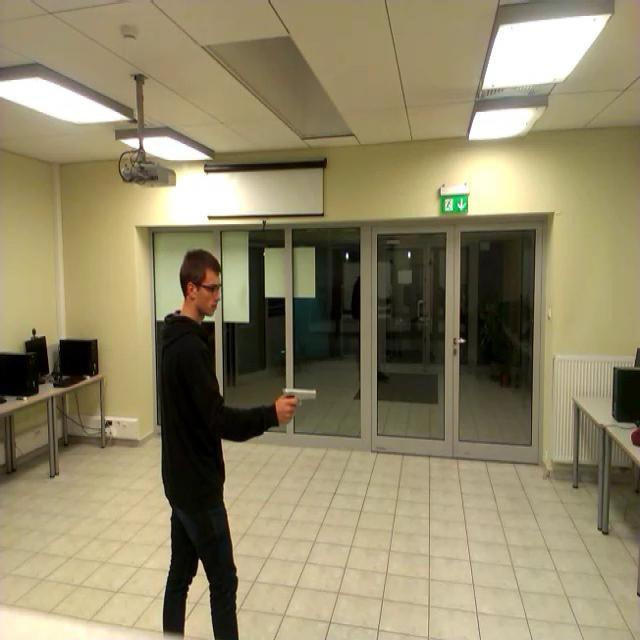weapon: (280, 388, 316, 424)
